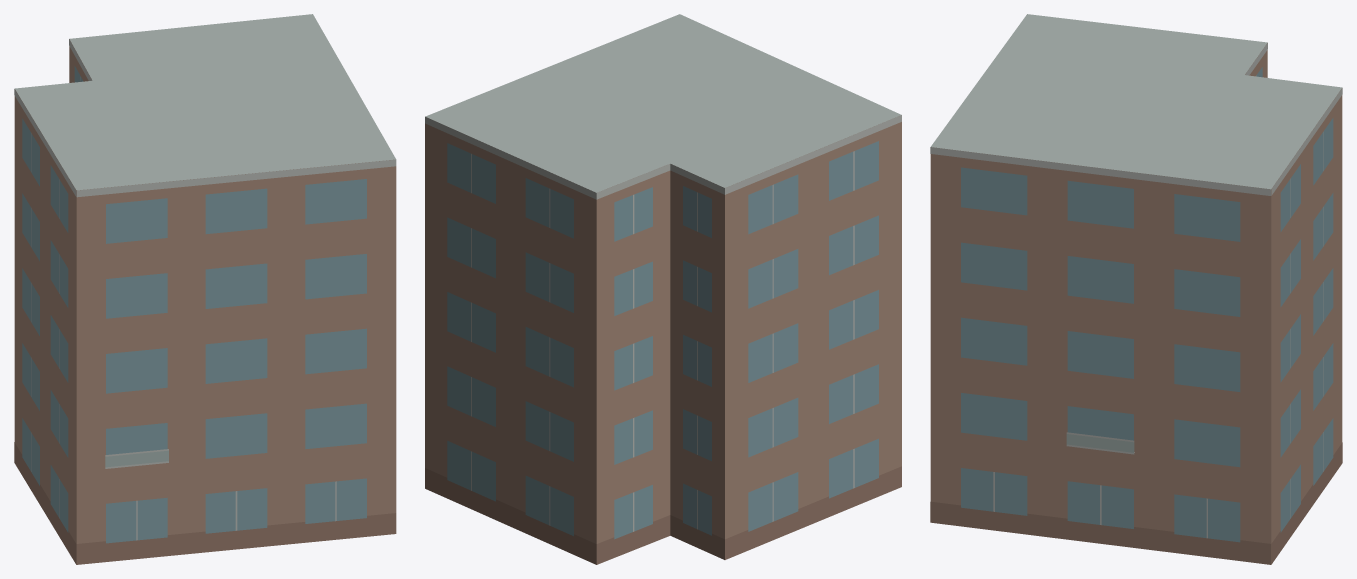
File: survey-upis-33044855.glb
The picture shows the model from 3 angles, left to right: view 1: azimuth 30°, elevation 25°; view 2: azimuth 150°, elevation 25°; view 3: azimuth 270°, elevation 25°; orthographic projection.
Visible parts, largest first — view 1: survey-upis-33044855.tmp; view 2: survey-upis-33044855.tmp; view 3: survey-upis-33044855.tmp.
Boxes of the visible parts, x1,y1,x2,y2 form: survey-upis-33044855.tmp: [14, 14, 396, 564]; survey-upis-33044855.tmp: [425, 14, 901, 564]; survey-upis-33044855.tmp: [930, 14, 1342, 564].
Bounding box in the file's own units: 13.35 × 13.33 × 13.26.
